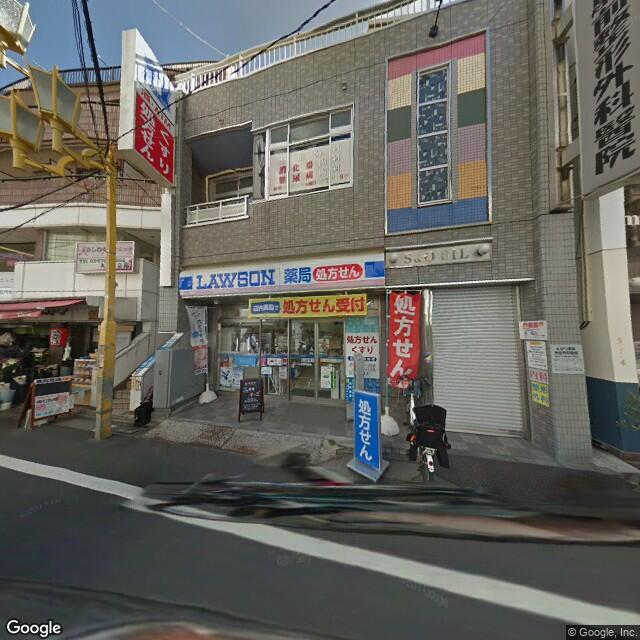lawson: (179, 248, 389, 297), (142, 52, 172, 110)
